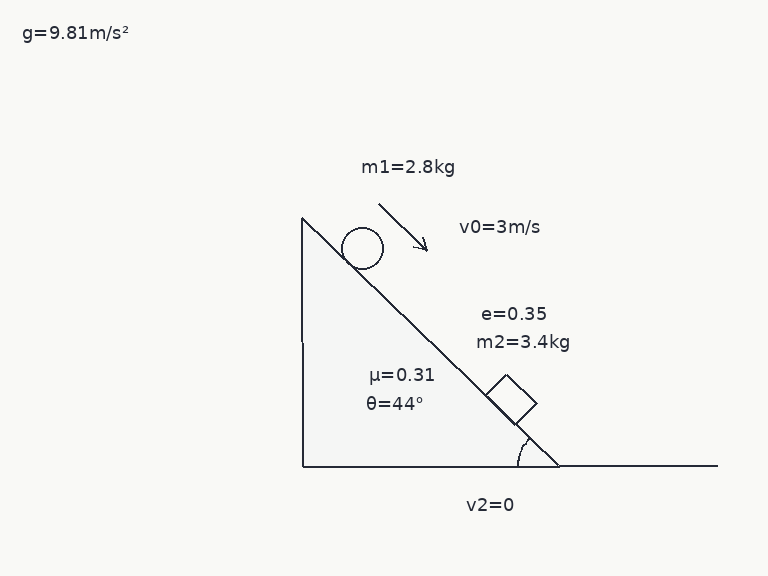ball: (339, 225, 385, 271)
block: (483, 371, 538, 426)
ramp: (299, 216, 560, 468)
